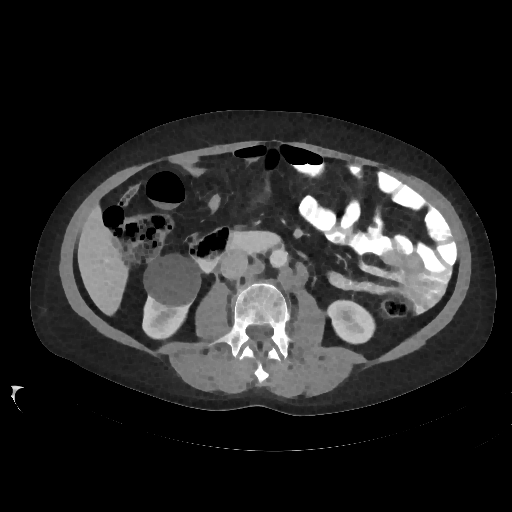Lesion: (139, 254, 204, 308)
